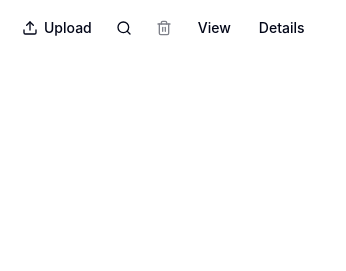
Toolbar — View menu › opening the menu shows six radio items in the documented order with the exact labels
The width and height of the screenshot is (346, 271).
Press the mouse on the button "View" at (214, 28), box 186,12 -> 243,44
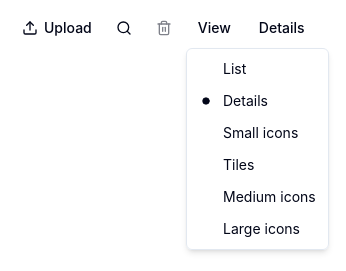
Check: the number of menu items is 6, box 223,60 -> 246,77; 202,92 -> 268,109; 223,124 -> 298,141; 223,156 -> 254,173; 223,188 -> 316,205; 223,220 -> 300,237
